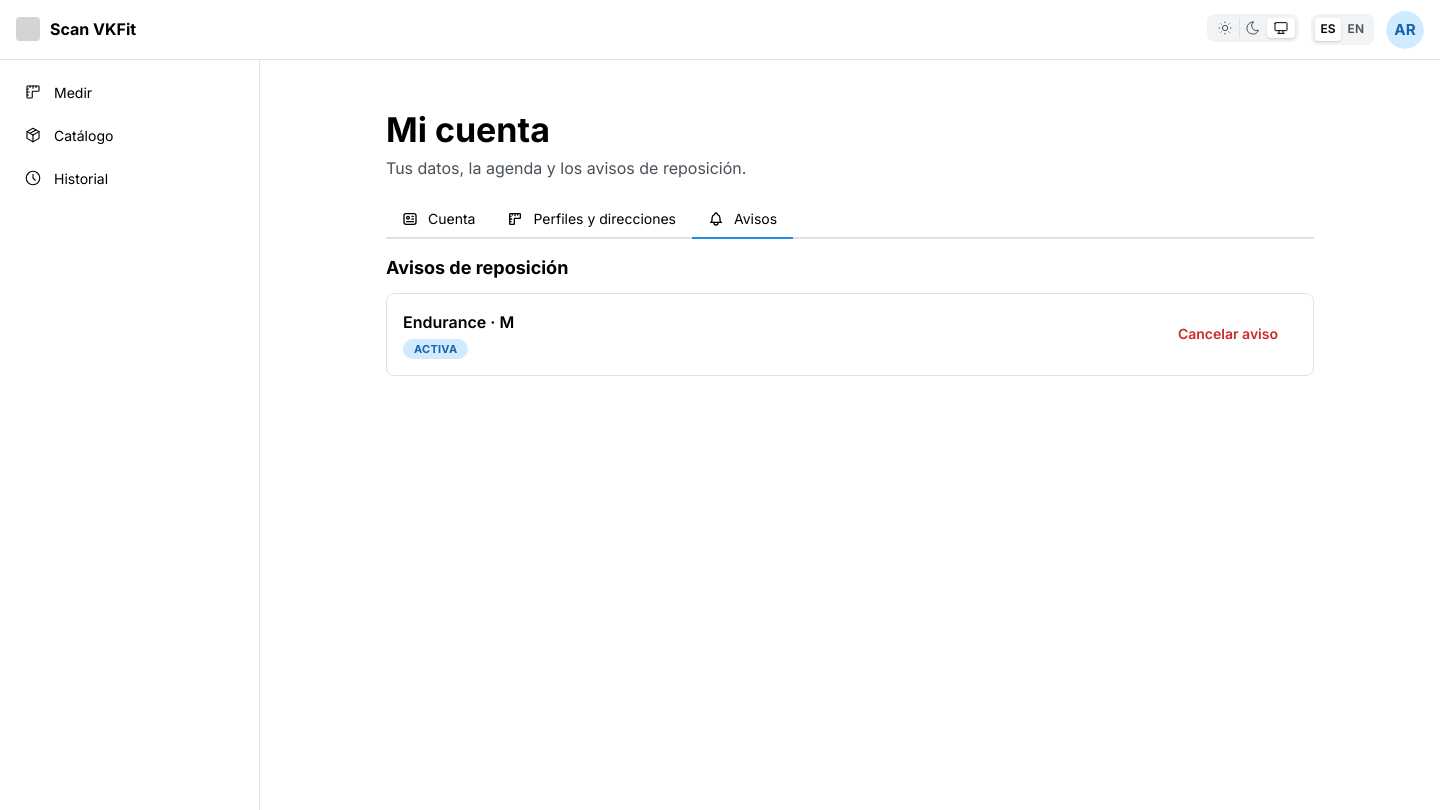
pestaña de avisos de reposición › cancelar el aviso deja la pestaña vacía
Click the button "Cancelar aviso" at coordinates (1228, 334), box [1159,316,1297,352]
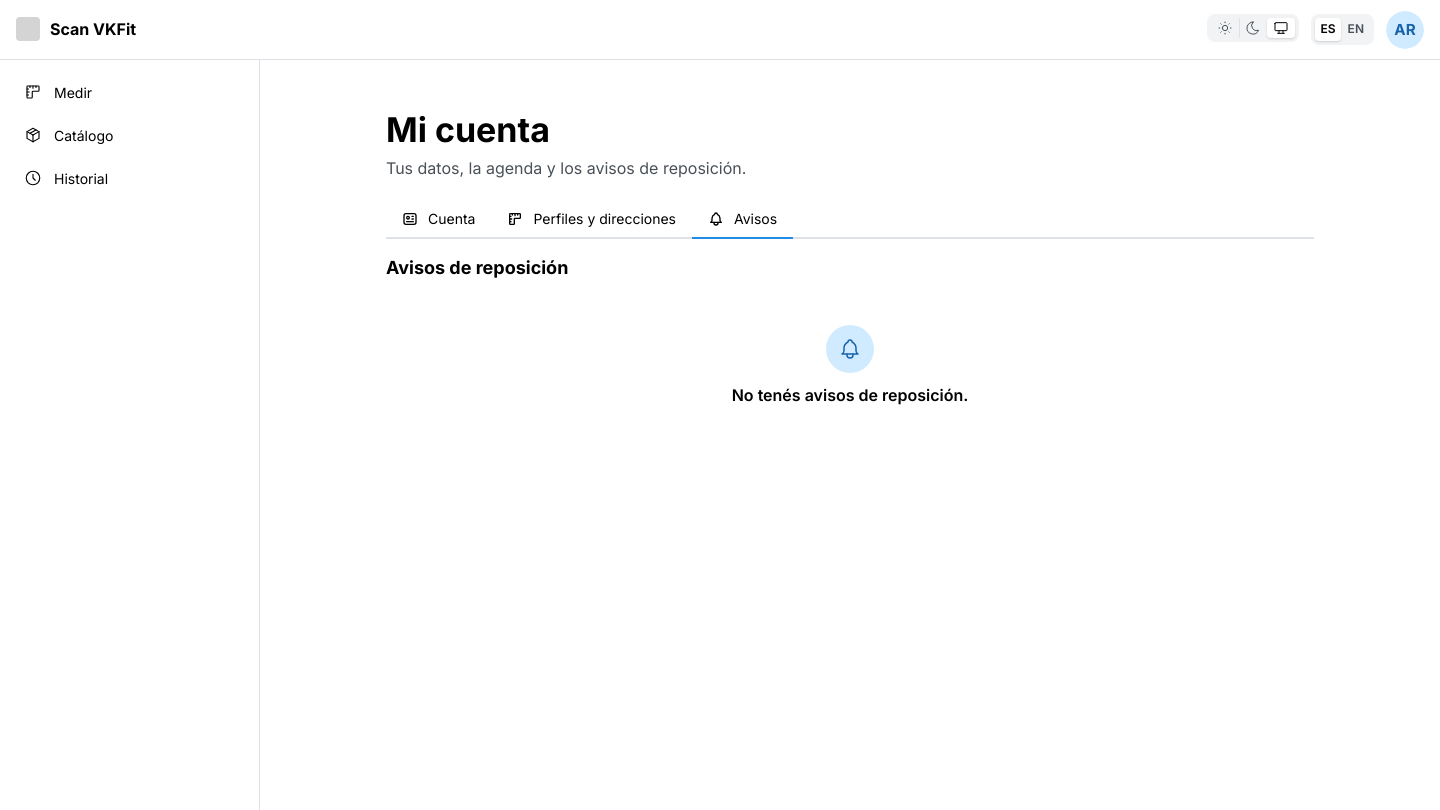
Expected: the text "No tenés avisos de reposición." is shown, [732,383,968,408]
Expected: the text "Endurance · M" is gone
